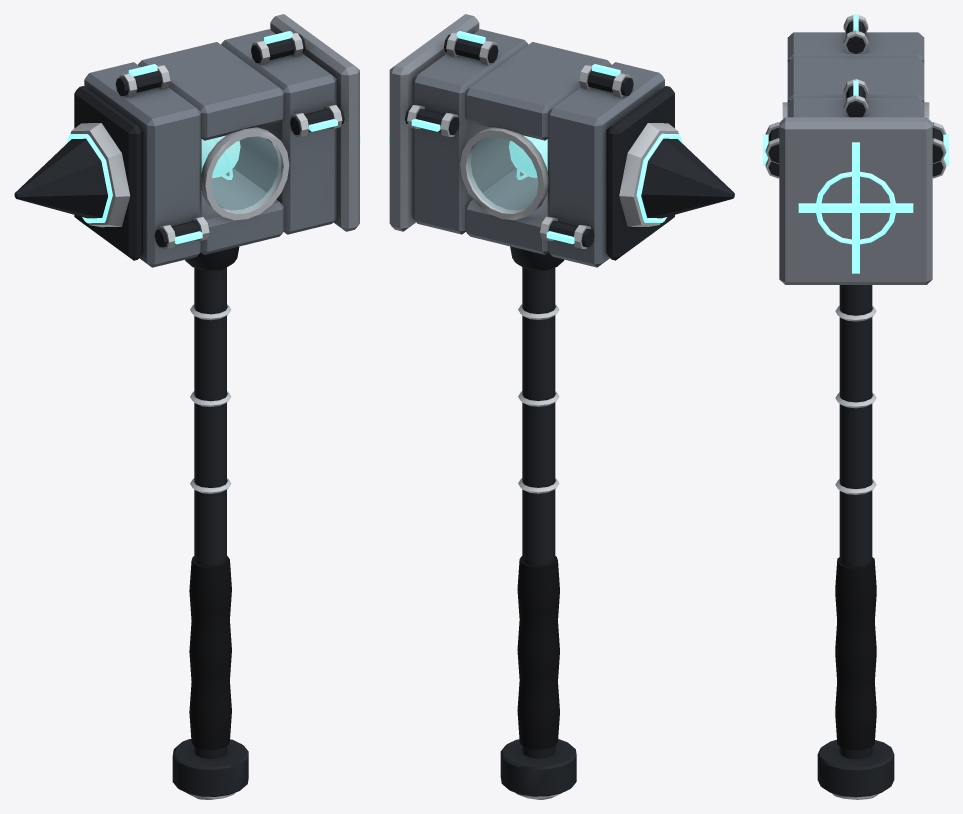
Rendered from martillo_pulsar.fbx.
3 views of the same model, side by side, from view 1: azimuth 30°, elevation 25°; view 2: azimuth 150°, elevation 25°; view 3: azimuth 270°, elevation 25° (orthographic).
Visible parts, largest first — view 1: MartilloPulsar_Cabeza, MartilloPulsar_Mango, MartilloPulsar_Grip, MartilloPulsar_Punta, MartilloPulsar_Nucleo, MartilloPulsar_Conductos, MartilloPulsar_Contrapeso, MartilloPulsar_Neon_01, MartilloPulsar_Neon_02, MartilloPulsar_Neon_03; view 2: MartilloPulsar_Cabeza, MartilloPulsar_Mango, MartilloPulsar_Grip, MartilloPulsar_Punta, MartilloPulsar_Nucleo, MartilloPulsar_Conductos, MartilloPulsar_Contrapeso, MartilloPulsar_Neon_02, MartilloPulsar_Neon_01, MartilloPulsar_Neon_03; view 3: MartilloPulsar_Cabeza, MartilloPulsar_Mango, MartilloPulsar_Grip, MartilloPulsar_Contrapeso, MartilloPulsar_Neon_03, MartilloPulsar_Conductos, MartilloPulsar_Neon_02.
Part boxes in pixels (x1,y1,x2,y2): MartilloPulsar_Cabeza: [74, 14, 359, 271]; MartilloPulsar_Mango: [190, 267, 231, 758]; MartilloPulsar_Grip: [189, 556, 231, 749]; MartilloPulsar_Punta: [14, 123, 130, 227]; MartilloPulsar_Nucleo: [201, 136, 281, 212]; MartilloPulsar_Conductos: [115, 33, 344, 248]; MartilloPulsar_Contrapeso: [172, 739, 248, 799]; MartilloPulsar_Neon_01: [201, 135, 240, 179]; MartilloPulsar_Neon_02: [128, 31, 337, 244]; MartilloPulsar_Neon_03: [66, 134, 360, 223]; MartilloPulsar_Cabeza: [389, 14, 674, 270]; MartilloPulsar_Mango: [518, 267, 559, 758]; MartilloPulsar_Grip: [517, 556, 559, 749]; MartilloPulsar_Punta: [619, 123, 734, 226]; MartilloPulsar_Nucleo: [467, 136, 547, 212]; MartilloPulsar_Conductos: [405, 33, 633, 248]; MartilloPulsar_Contrapeso: [500, 739, 576, 799]; MartilloPulsar_Neon_02: [411, 31, 620, 244]; MartilloPulsar_Neon_01: [509, 135, 547, 179]; MartilloPulsar_Neon_03: [389, 133, 682, 222]; MartilloPulsar_Cabeza: [779, 32, 932, 284]; MartilloPulsar_Mango: [835, 285, 876, 759]; MartilloPulsar_Grip: [835, 557, 876, 750]; MartilloPulsar_Contrapeso: [817, 739, 894, 799]; MartilloPulsar_Neon_03: [798, 142, 913, 273]; MartilloPulsar_Conductos: [765, 15, 946, 178]; MartilloPulsar_Neon_02: [763, 14, 948, 165].
Size of the model in its own units: 0.3724 by 0.8316 by 0.1904.
5 materials, 1 textured.
